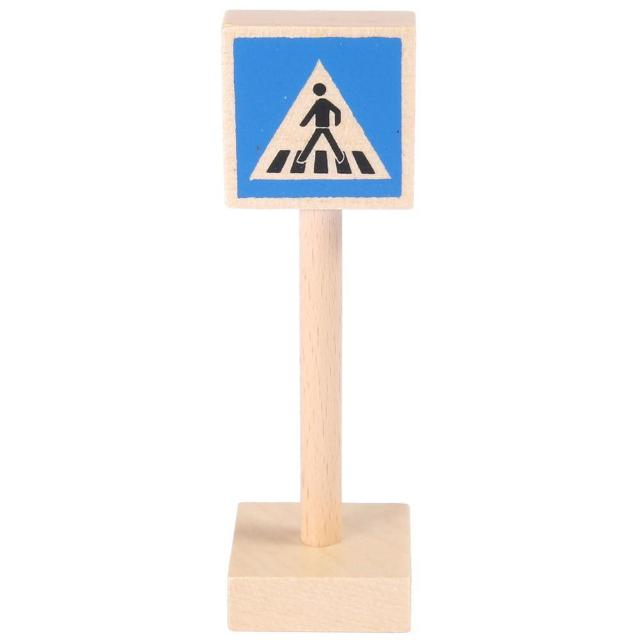crosswalk-sign: (222, 11, 416, 210)
